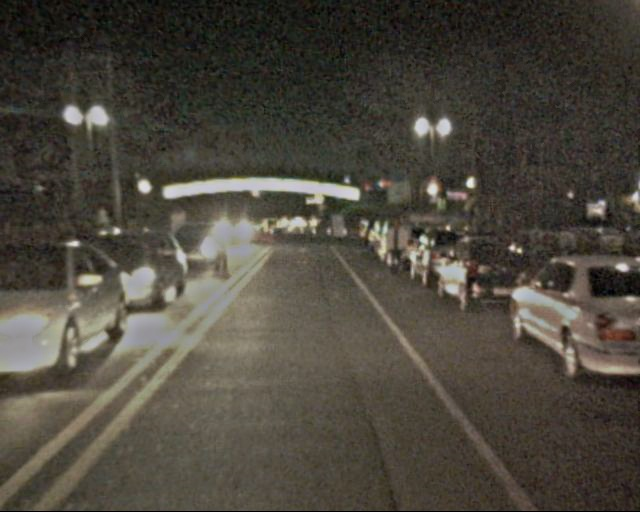person: (380, 220, 408, 289)
